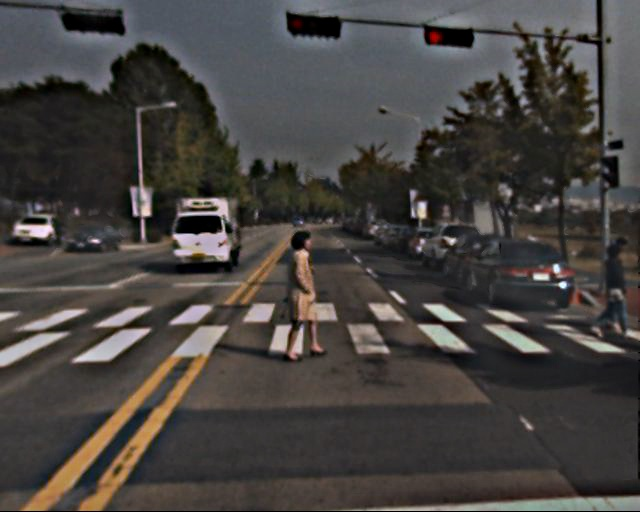person: (273, 232, 325, 359), (594, 241, 635, 341)
